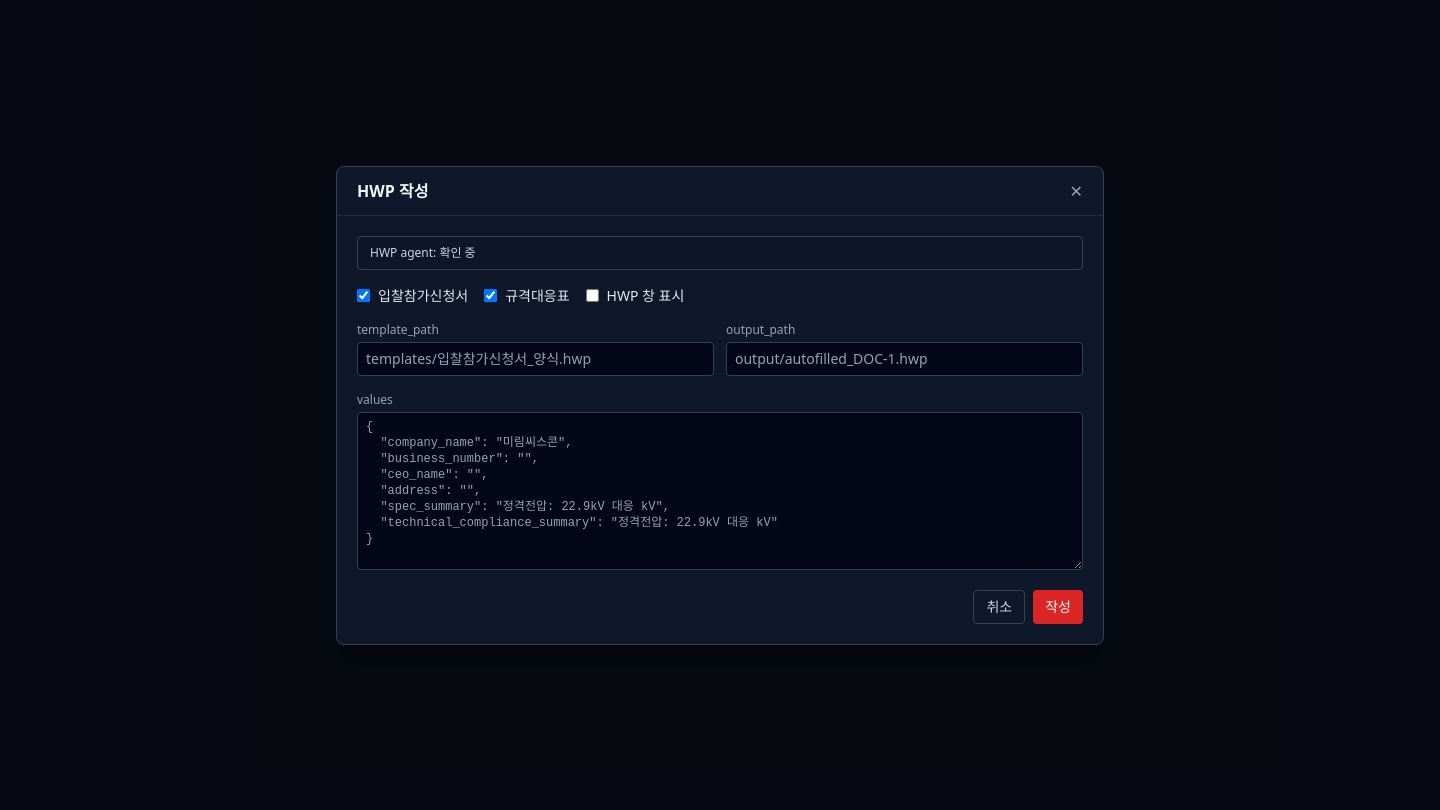
Scenario: HwpComposeDialog › keeps compose errors visible in the dialog
Click the button "작성". click: (1058, 606)
box: [1033,590,1083,624]
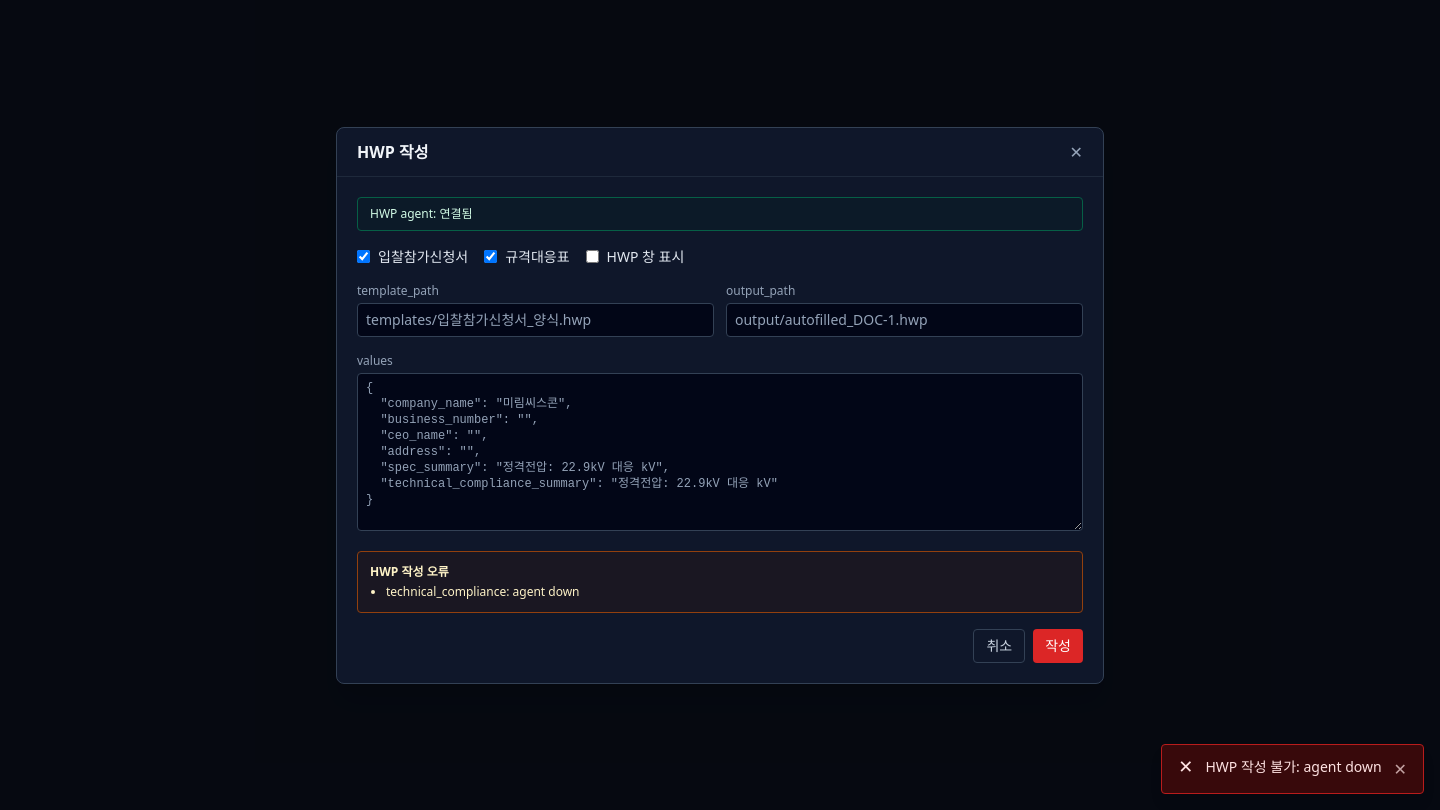
expect the text "HWP 작성 오류" is shown: met, box [370,562,449,580]
expect the list item "technical_compliance: agent down" is shown: met, box [386,582,580,600]
